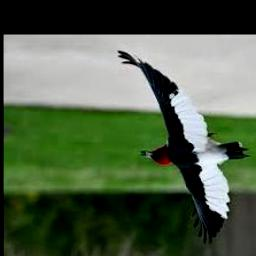Woodpecker: (118, 50, 249, 245)
